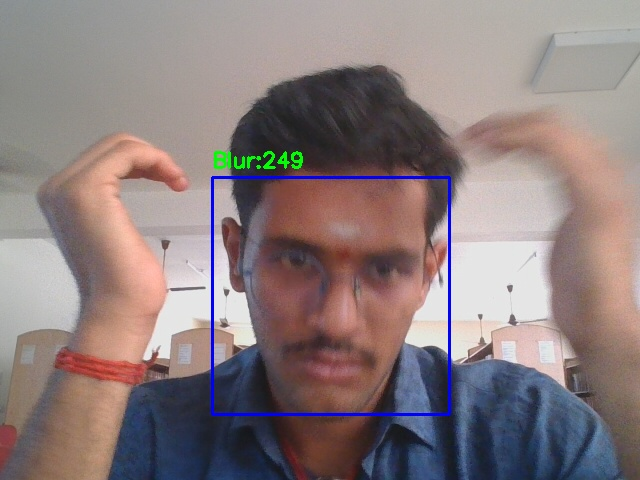real: (212, 177, 449, 414)
